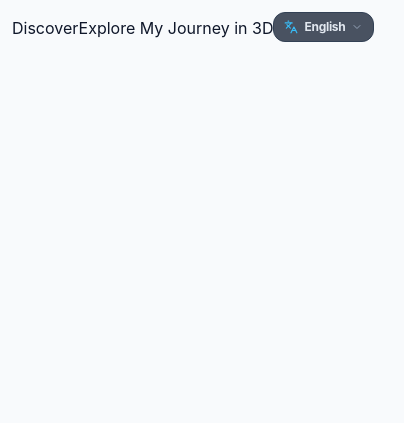
Test: FujiNova 8.0 Platform & Feature Suite › Global Multilingual System & Language Selector › defaults to English and allows switching to Japanese, updating translations
Expected: the text with test id "nav-discover" reads "Discover", [12,18,79,38]
Expected: the text with test id "twin-explore" reads "Explore My Journey in 3D", [79,18,274,38]
// Open language selector
Click the button with aria-label "select language" at (324, 27), box [274,12,374,42]
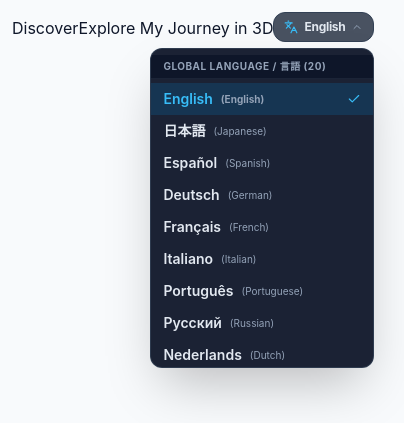
// Select Japanese
Click the option "日本語 (Japanese)" at (262, 131), box [151,115,373,147]
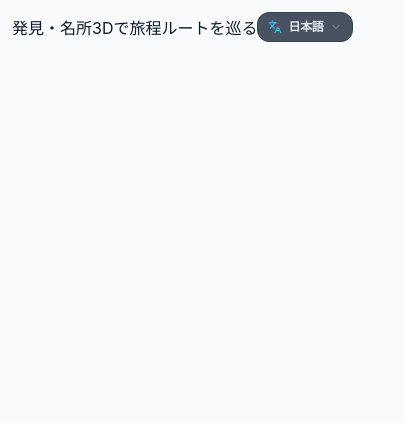
Expected: the text with test id "nav-discover" reads "発見・名所", [12,18,92,38]
Expected: the text with test id "twin-explore" reads "3Dで旅程ルートを巡る", [92,18,257,38]
